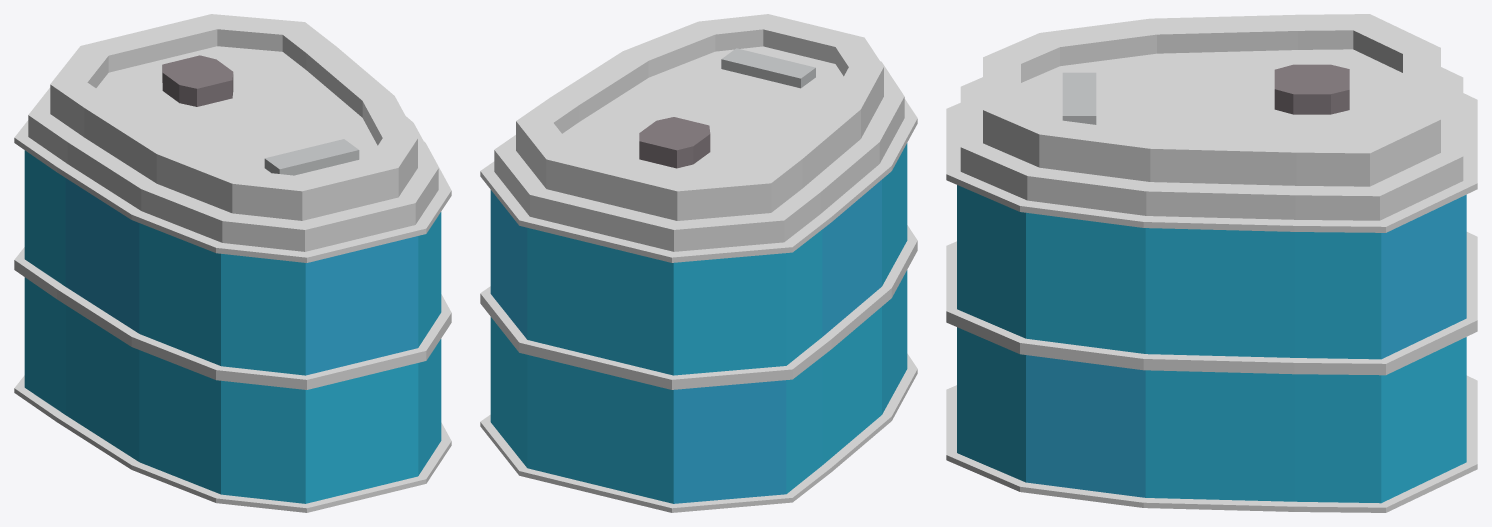
The model's file is building_1x10_r.glb.
The picture shows the model from 3 angles, left to right: view 1: azimuth 30°, elevation 25°; view 2: azimuth 150°, elevation 25°; view 3: azimuth 270°, elevation 25°; orthographic projection. The views are drawn at different scales.
Parts seen in each view (by area): view 1: Cube.004; view 2: Cube.004; view 3: Cube.004.
Part boxes in pixels (x1,y1,x2,y2): Cube.004: (14,14,451,512); Cube.004: (480,14,917,512); Cube.004: (946,14,1477,512).
Bounding box in the file's own units: 1.37 × 1.29 × 1.8.
